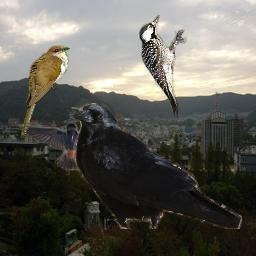Crow: (69, 103, 242, 229)
Cuckoo: (20, 45, 70, 138)
Swallow: (16, 121, 118, 170)
Woodpecker: (139, 15, 187, 119)
